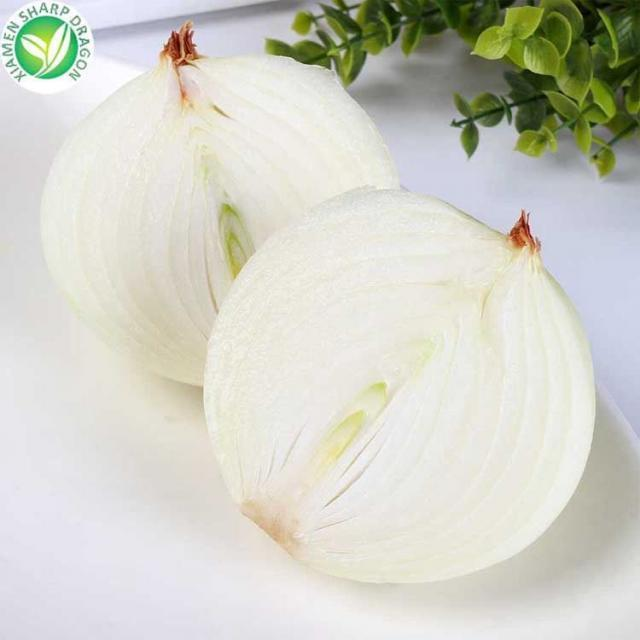onion: (202, 192, 598, 589), (41, 30, 414, 398)
